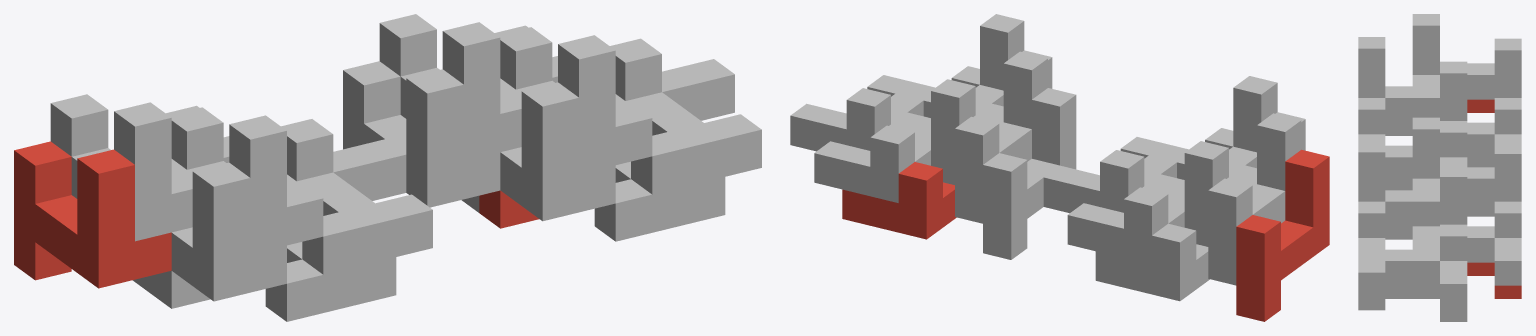
The model's file is tiling.obj.
3 renders of one model, left to right at view 1: azimuth 30°, elevation 25°; view 2: azimuth 150°, elevation 25°; view 3: azimuth 270°, elevation 25°, orthographic. The views are drawn at different scales.
Parts seen in each view (by area): view 1: copy_1_domain_1, copy_2_domain_4, copy_2_domain_8, copy_1_domain_5, copy_1_domain_4, copy_1_domain_8, copy_1_domain_3, copy_1_domain_7, copy_1_domain_2, copy_1_domain_6, copy_2_domain_6, copy_2_domain_2 (+2 smaller); view 2: copy_1_domain_1, copy_1_domain_5, copy_1_domain_3, copy_1_domain_7, copy_1_domain_4, copy_1_domain_8, copy_2_domain_3, copy_2_domain_7, copy_2_domain_4, copy_2_domain_8, copy_2_domain_1, copy_2_domain_5; view 3: copy_1_domain_8, copy_1_domain_4, copy_2_domain_8, copy_1_domain_7, copy_1_domain_3, copy_2_domain_7, copy_2_domain_4, copy_2_domain_3, copy_2_domain_6, copy_2_domain_5, copy_1_domain_1, copy_1_domain_2 (+4 smaller).
Part boxes in pixels (x1,y1,x2,y2): copy_1_domain_1: [14, 141, 171, 288]; copy_2_domain_4: [281, 119, 432, 274]; copy_2_domain_8: [610, 38, 761, 194]; copy_1_domain_5: [343, 61, 500, 207]; copy_1_domain_4: [169, 107, 323, 254]; copy_1_domain_8: [498, 27, 652, 173]; copy_1_domain_3: [50, 94, 192, 241]; copy_1_domain_7: [379, 14, 521, 160]; copy_1_domain_2: [133, 159, 286, 301]; copy_1_domain_6: [461, 78, 615, 221]; copy_2_domain_6: [594, 94, 725, 241]; copy_2_domain_2: [265, 174, 396, 321]; copy_1_domain_1: [1236, 149, 1329, 321]; copy_1_domain_5: [983, 88, 1076, 259]; copy_1_domain_3: [1208, 113, 1301, 285]; copy_1_domain_7: [955, 51, 1047, 223]; copy_1_domain_4: [1184, 76, 1277, 246]; copy_1_domain_8: [931, 14, 1024, 184]; copy_2_domain_3: [1067, 174, 1184, 264]; copy_2_domain_7: [814, 112, 930, 202]; copy_2_domain_4: [1043, 137, 1188, 213]; copy_2_domain_8: [790, 75, 935, 151]; copy_2_domain_1: [1095, 223, 1209, 301]; copy_2_domain_5: [842, 162, 956, 239]; copy_1_domain_8: [1358, 140, 1467, 237]; copy_1_domain_4: [1358, 37, 1467, 134]; copy_2_domain_8: [1358, 224, 1467, 308]; copy_1_domain_7: [1412, 117, 1521, 203]; copy_1_domain_3: [1412, 14, 1521, 99]; copy_2_domain_7: [1412, 201, 1521, 285]; copy_2_domain_4: [1358, 121, 1467, 181]; copy_2_domain_3: [1467, 98, 1521, 158]; copy_2_domain_6: [1358, 285, 1467, 321]; copy_2_domain_5: [1467, 262, 1521, 298]; copy_1_domain_1: [1467, 99, 1494, 112]; copy_1_domain_2: [1385, 122, 1412, 135].
Size of the model in its own units: 18 by 5 by 6.
